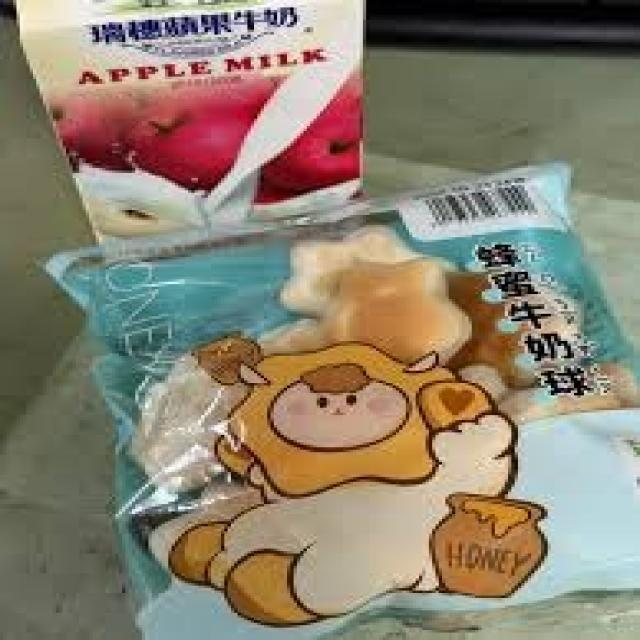RuiSui_AppleMilk: (17, 0, 377, 262)
